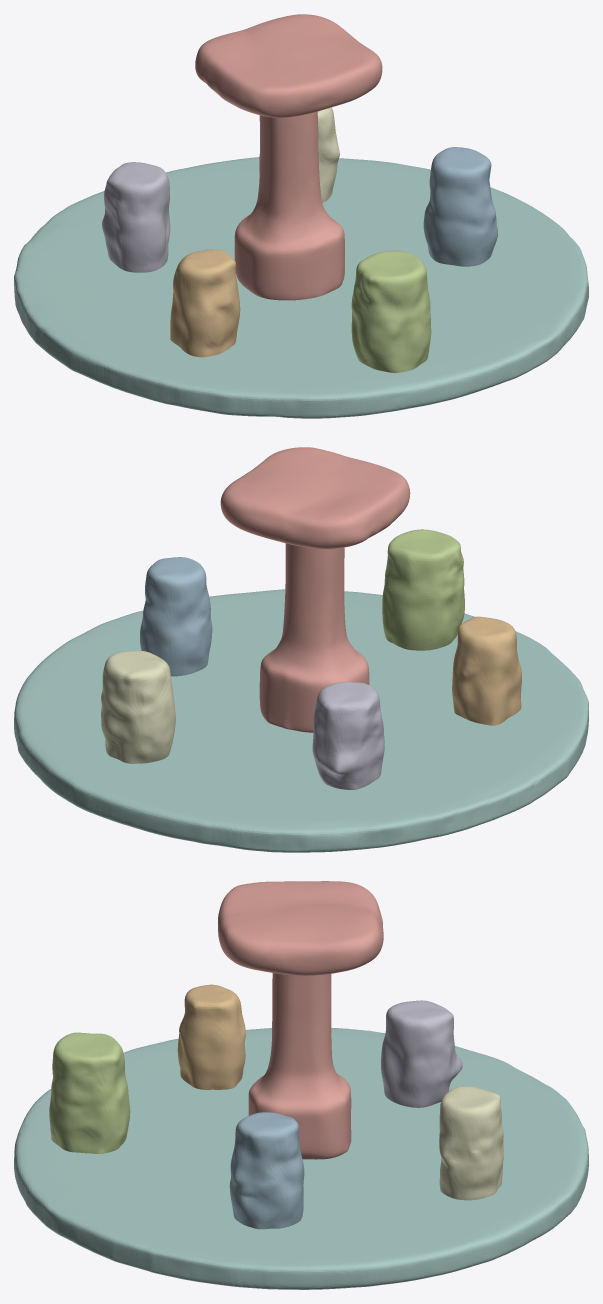
File: image7_0.glb
3 views of the same model, one above another, from view 1: azimuth 30°, elevation 25°; view 2: azimuth 150°, elevation 25°; view 3: azimuth 270°, elevation 25° (orthographic).
Parts seen in each view (by area): view 1: world; view 2: world; view 3: world.
Part boxes in pixels (left/top/right/bottom): world: left=14, top=14, right=588, bottom=418; world: left=14, top=447, right=588, bottom=852; world: left=14, top=881, right=588, bottom=1289.
Size of the model in its own units: 1.91 by 0.9308 by 1.9.
